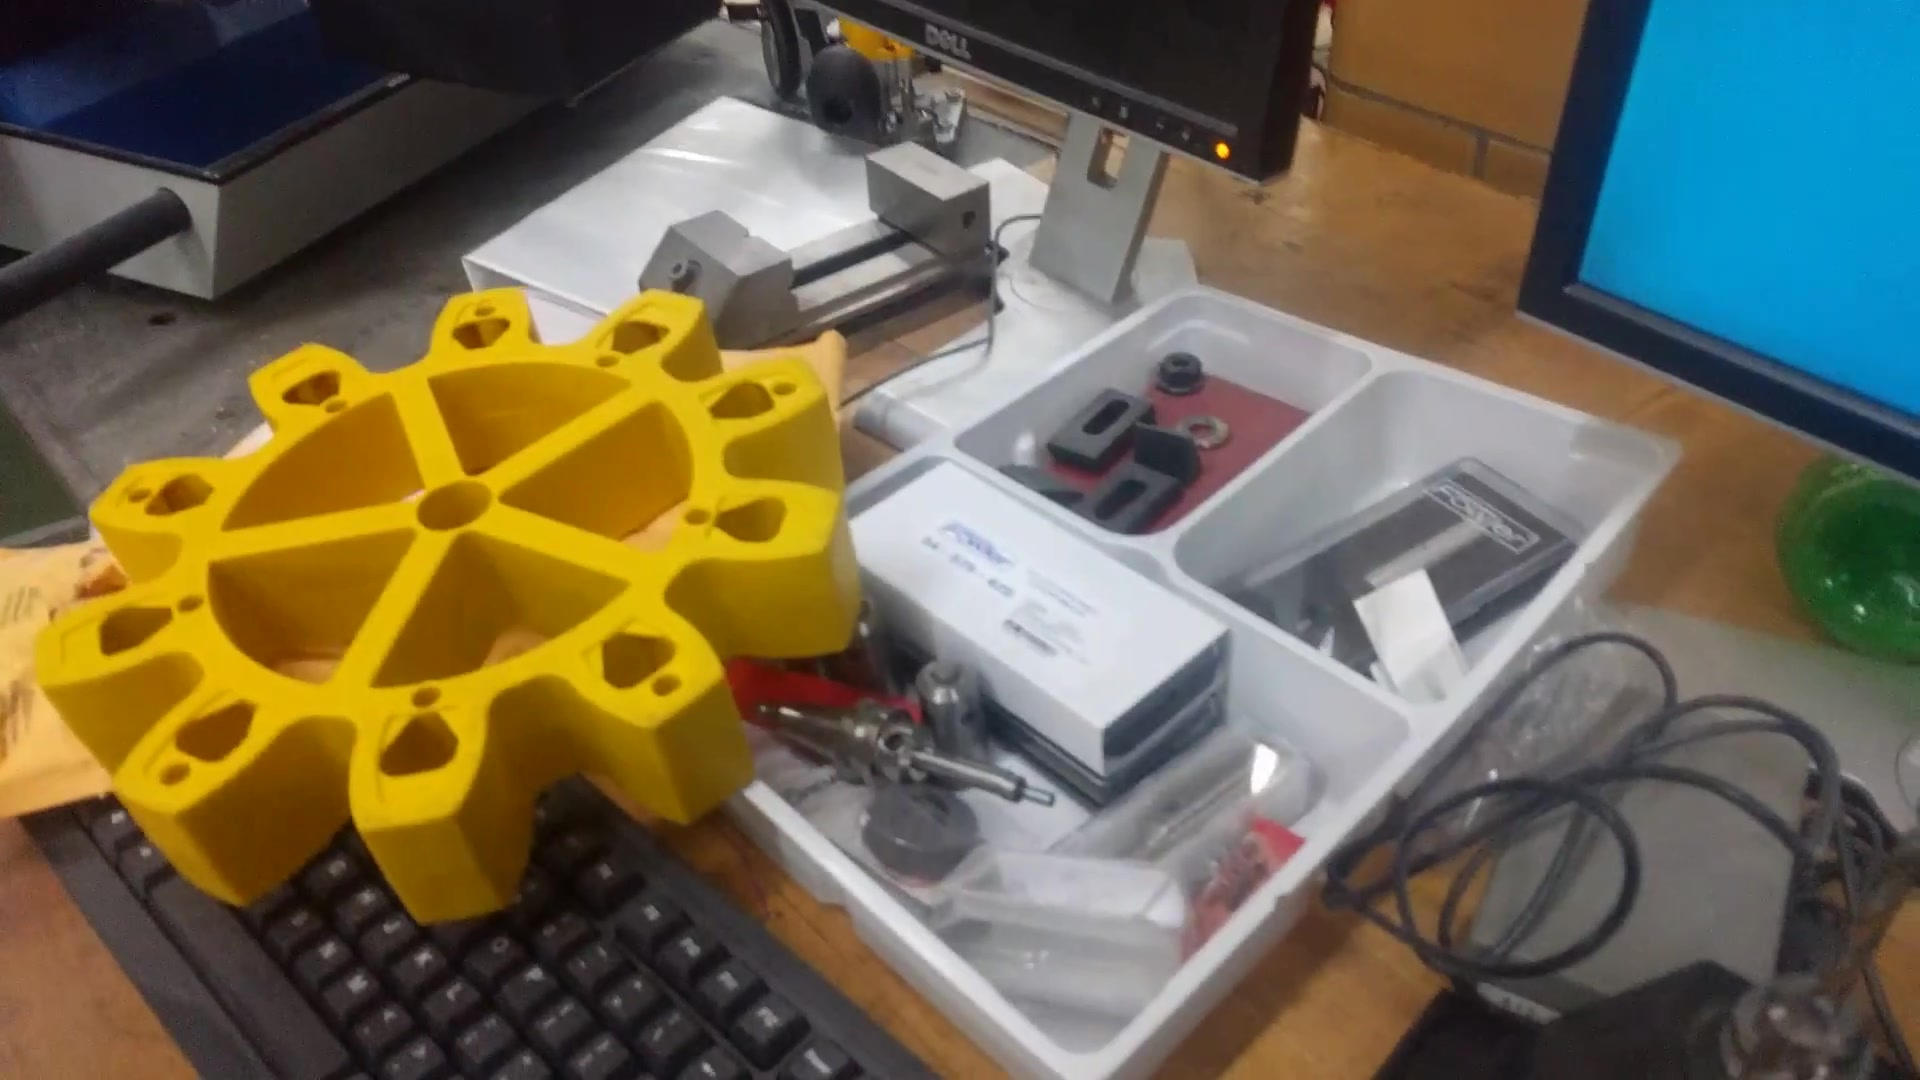gear: (28, 228, 906, 955)
